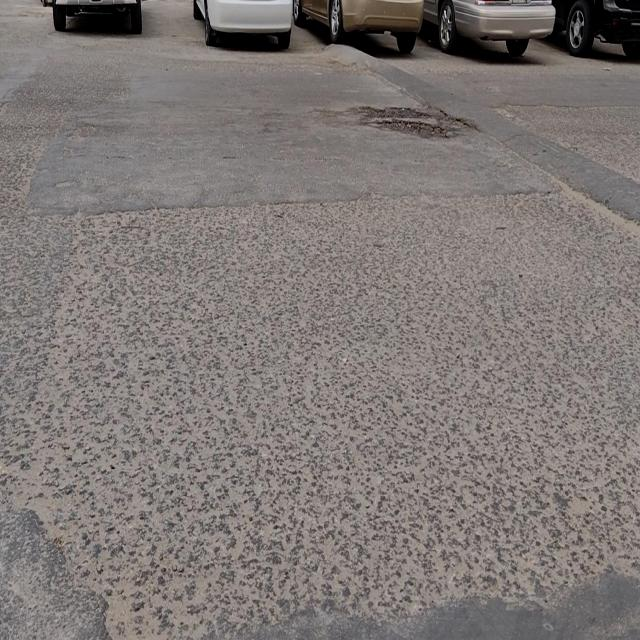Potholes: (351, 105, 448, 143)
